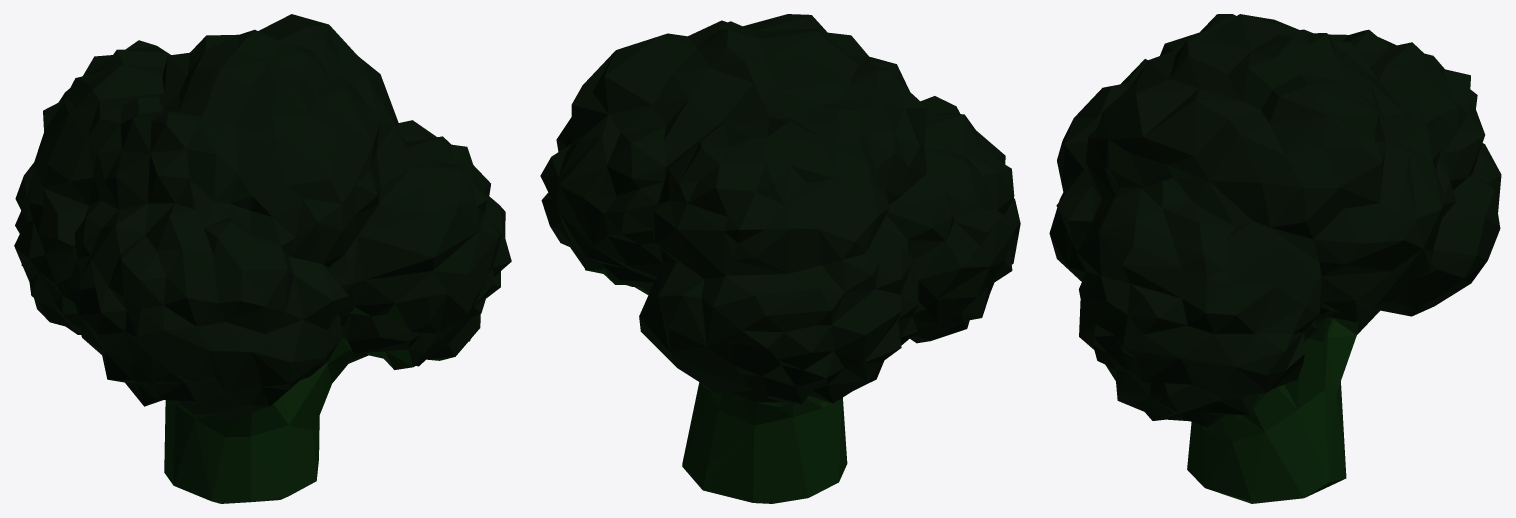
The model's file is Broccoli_lowpoly.obj.
3 renders of one model, left to right at view 1: azimuth 30°, elevation 25°; view 2: azimuth 150°, elevation 25°; view 3: azimuth 270°, elevation 25°, orthographic. The views are drawn at different scales.
Parts seen in each view (by area): view 1: Mesh1.0; view 2: Mesh1.0; view 3: Mesh1.0.
Part boxes in pixels (bbox=[...]): Mesh1.0: bbox=[14, 14, 511, 503]; Mesh1.0: bbox=[540, 14, 1020, 503]; Mesh1.0: bbox=[1049, 14, 1501, 503].
Bounding box in the file's own units: 0.9701 × 1.01 × 0.8964.
